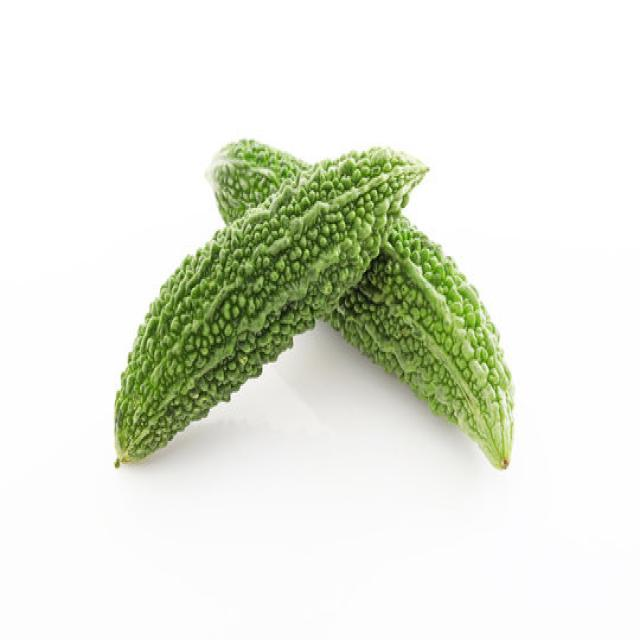Bitter_Gourd: (112, 135, 514, 473)
